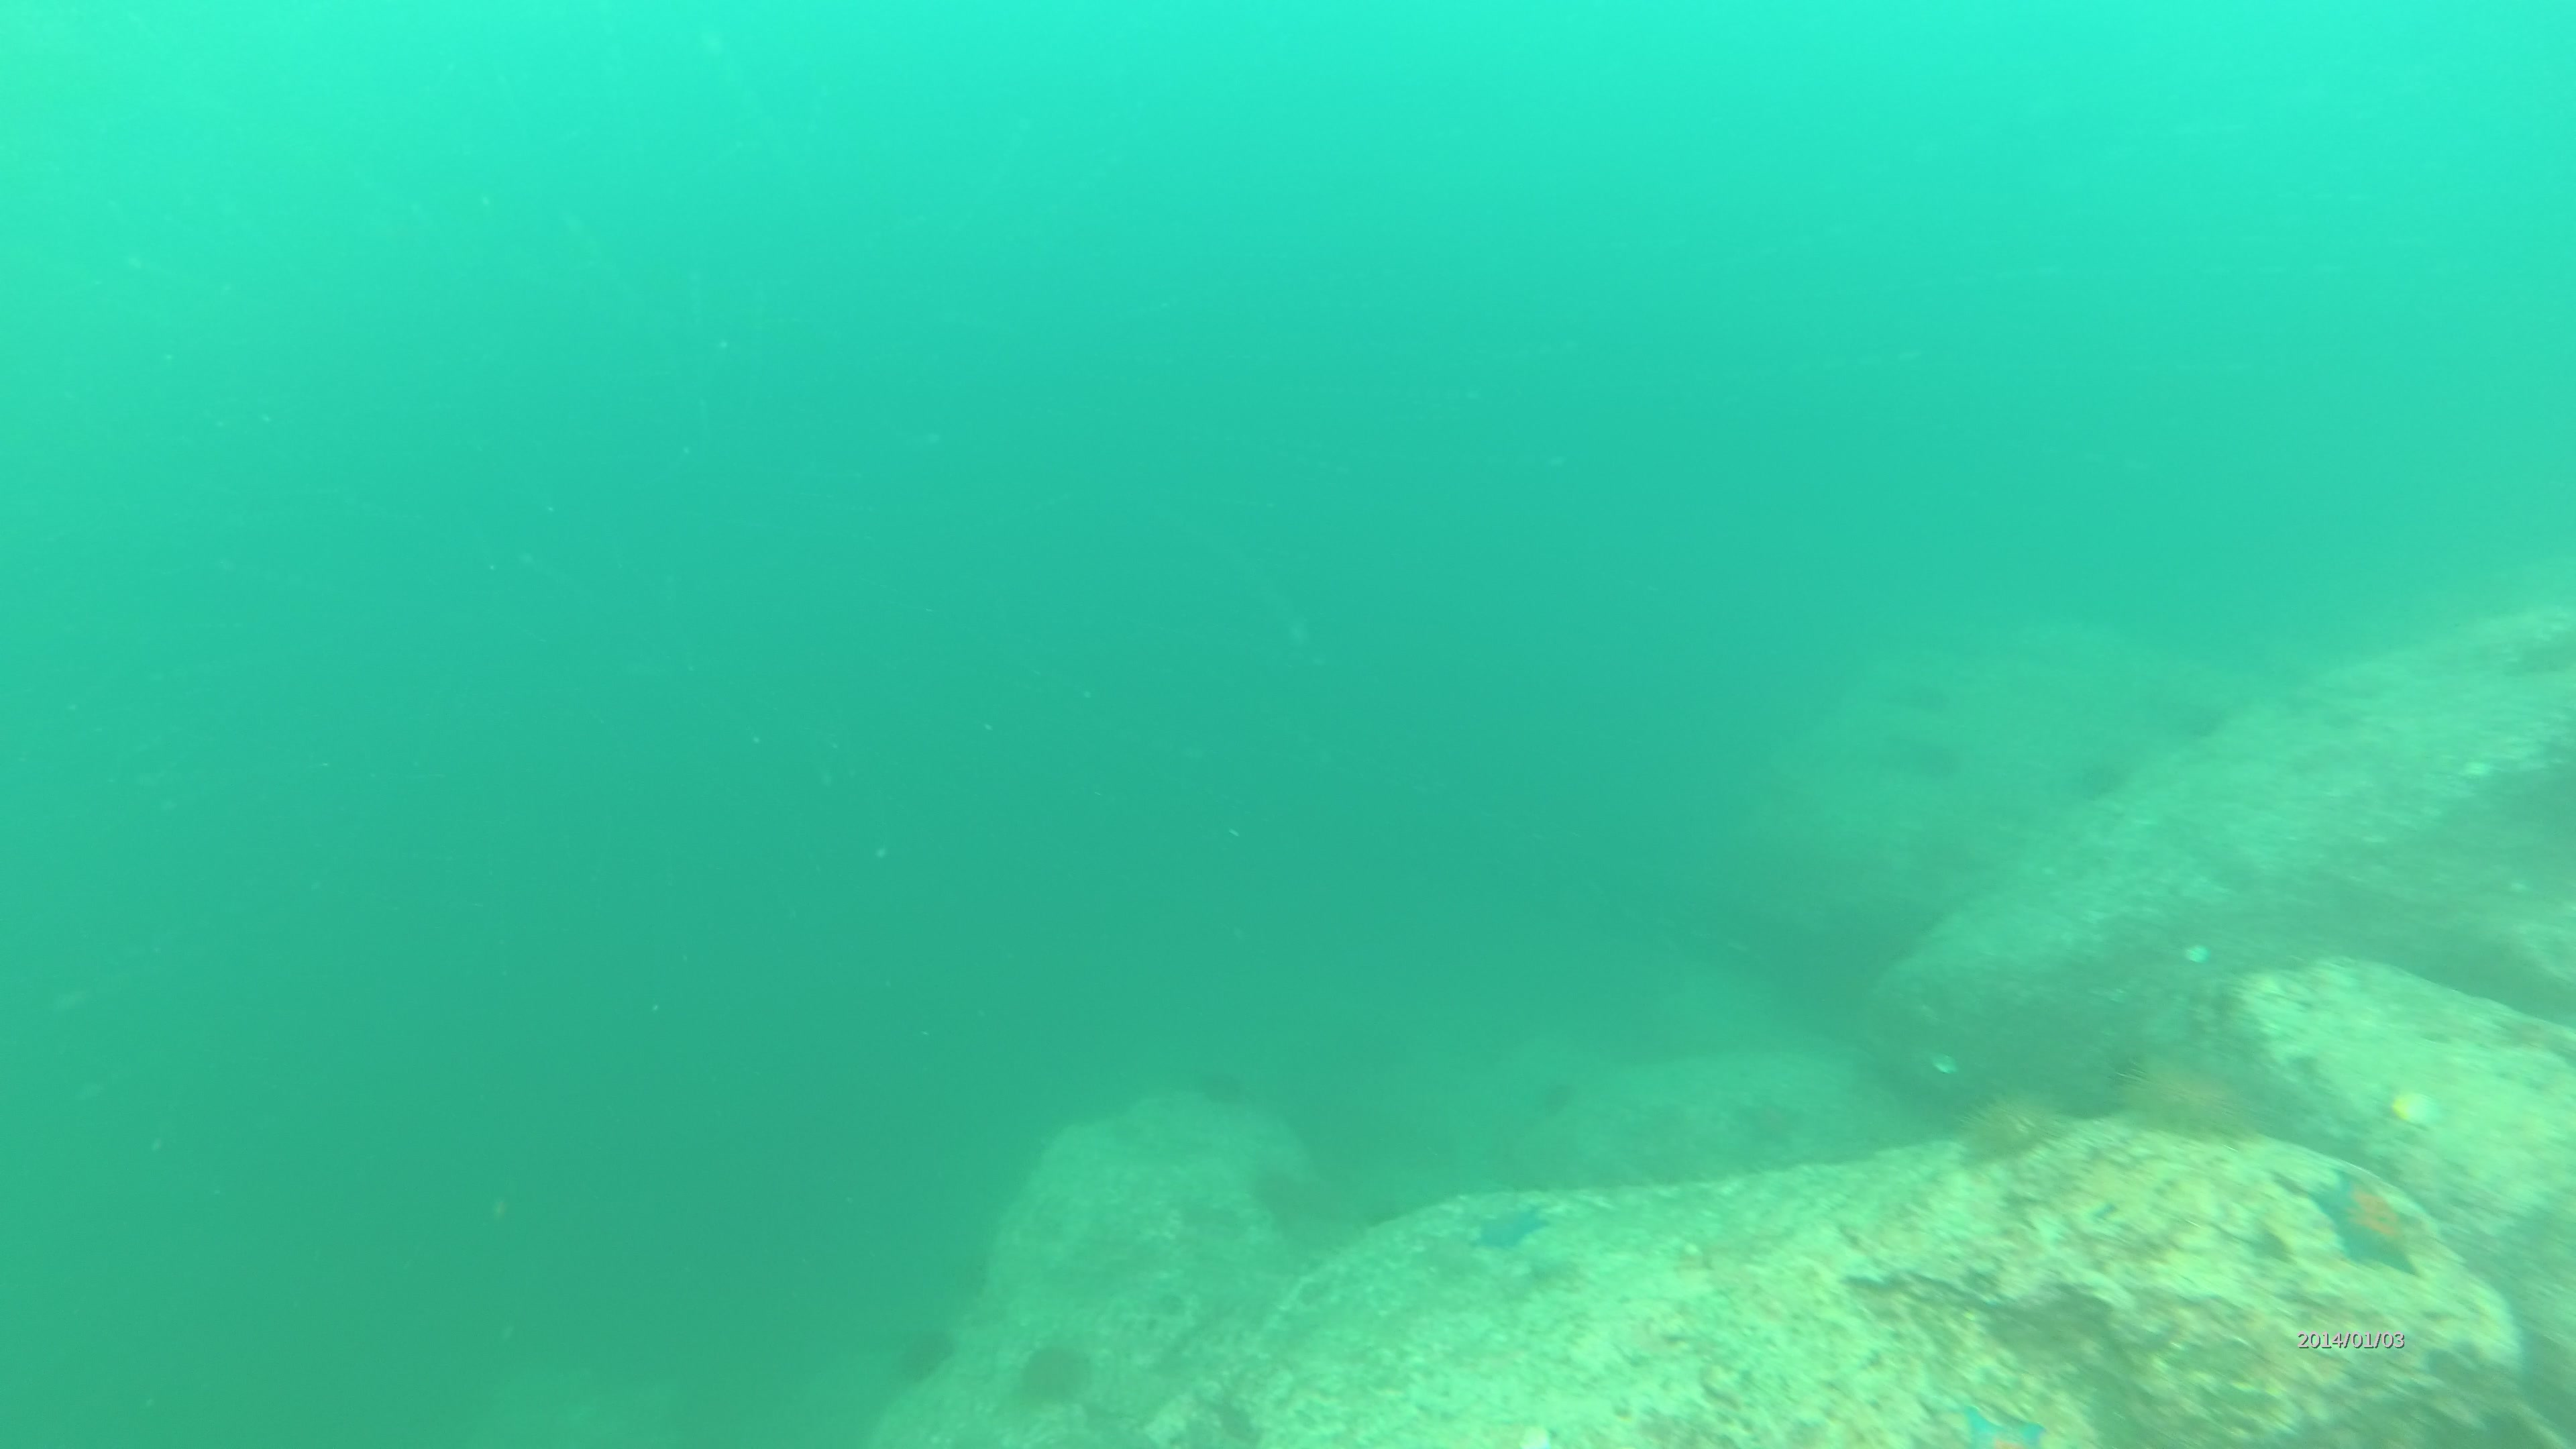echinus: (2109, 1042, 2263, 1152), (1953, 1077, 2065, 1168), (1016, 1343, 1097, 1401)
starfish: (2321, 1171, 2438, 1283), (1966, 1396, 2052, 1449), (1472, 1205, 1553, 1256)
